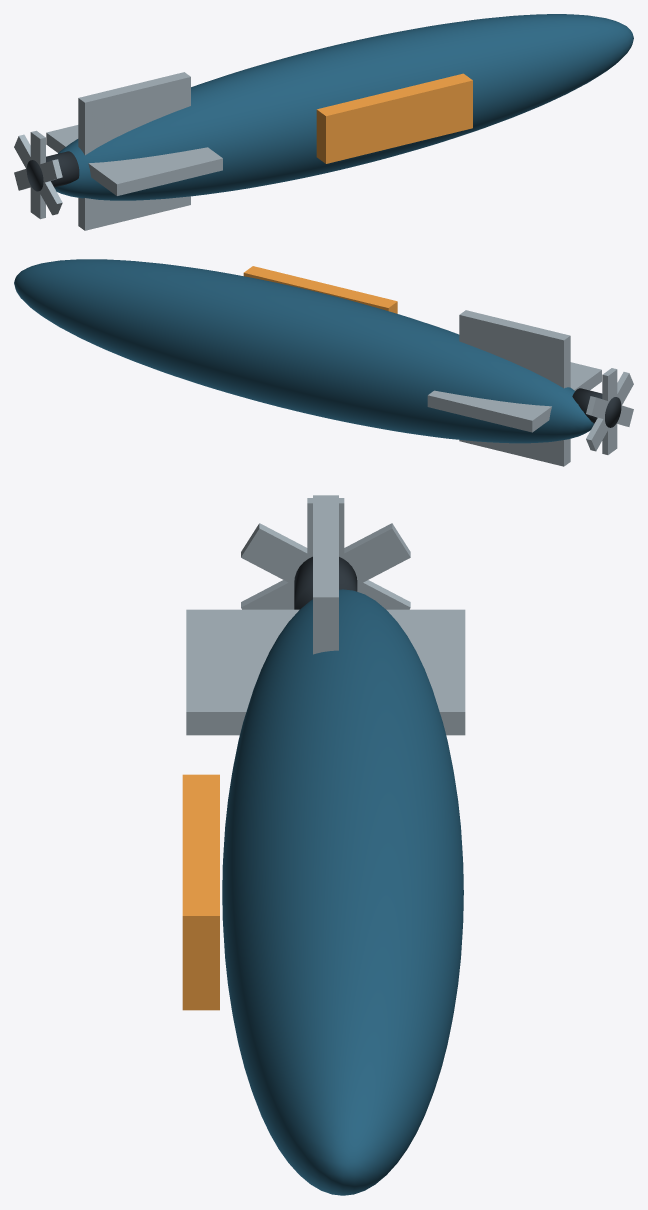
The model's file is main_auv.glb.
3 renders of one model, top to bottom at view 1: azimuth 30°, elevation 25°; view 2: azimuth 150°, elevation 25°; view 3: azimuth 270°, elevation 25°, orthographic. The views are drawn at different scales.
Parts seen in each view (by area): view 1: Main_AUV_Hull, Mini_ROV_Docking_Zone, Rear_Fin_0, Rear_Fin_90, Rear_Fin_180, Propeller_Hub, Rear_Fin_270, Propeller_Blade_0, Propeller_Blade_120, Propeller_Blade_240; view 2: Main_AUV_Hull, Rear_Fin_0, Rear_Fin_90, Rear_Fin_180, Mini_ROV_Docking_Zone, Propeller_Blade_0, Propeller_Hub, Propeller_Blade_240, Rear_Fin_270, Propeller_Blade_120; view 3: Main_AUV_Hull, Rear_Fin_90, Mini_ROV_Docking_Zone, Rear_Fin_270, Rear_Fin_0, Propeller_Blade_120, Propeller_Blade_240, Rear_Fin_180, Propeller_Hub.
Part boxes in pixels (x1,y1,x2,y2): Main_AUV_Hull: (54,14,633,200); Mini_ROV_Docking_Zone: (316,73,472,163); Rear_Fin_0: (78,72,190,230); Rear_Fin_90: (46,125,222,195); Rear_Fin_180: (83,72,190,225); Propeller_Hub: (26,151,79,191); Rear_Fin_270: (46,126,222,195); Propeller_Blade_0: (30,130,45,219); Propeller_Blade_120: (14,134,62,215); Propeller_Blade_240: (14,159,62,190); Main_AUV_Hull: (14,259,593,443); Rear_Fin_0: (459,310,570,464); Rear_Fin_90: (427,362,601,432); Rear_Fin_180: (459,311,570,466); Mini_ROV_Docking_Zone: (243,266,397,313); Propeller_Blade_0: (602,368,617,454); Propeller_Hub: (572,388,621,427); Propeller_Blade_240: (586,372,633,451); Rear_Fin_270: (428,363,601,431); Propeller_Blade_120: (586,396,633,426); Main_AUV_Hull: (222,589,463,1195); Rear_Fin_90: (186,609,465,735); Mini_ROV_Docking_Zone: (182,774,219,1010); Rear_Fin_270: (186,609,464,735); Rear_Fin_0: (313,495,338,654); Propeller_Blade_120: (241,523,410,609); Propeller_Blade_240: (241,523,410,609); Rear_Fin_180: (313,495,338,654); Propeller_Hub: (294,556,357,609).
Size of the model in its own units: 7.38 by 1.52 by 1.52.
